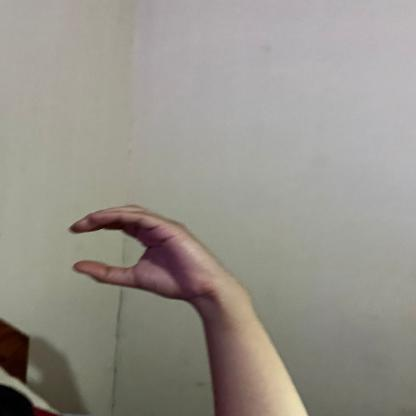C: (66, 196, 221, 300)
